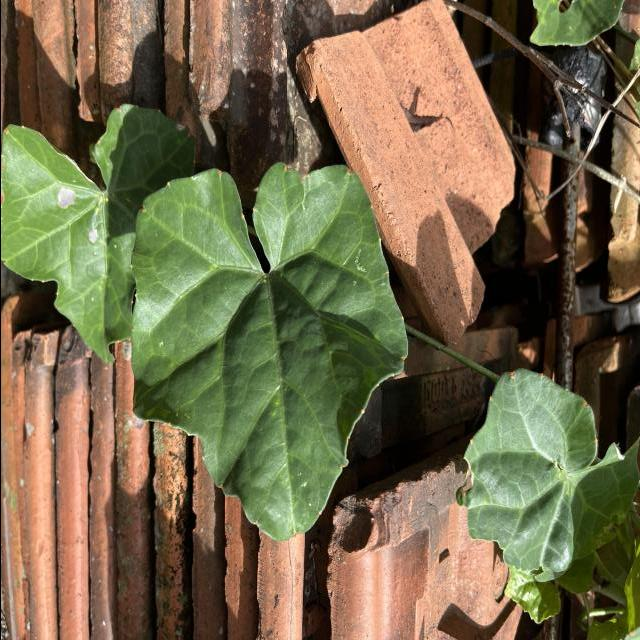Coccinia grandis: (126, 159, 410, 544)
